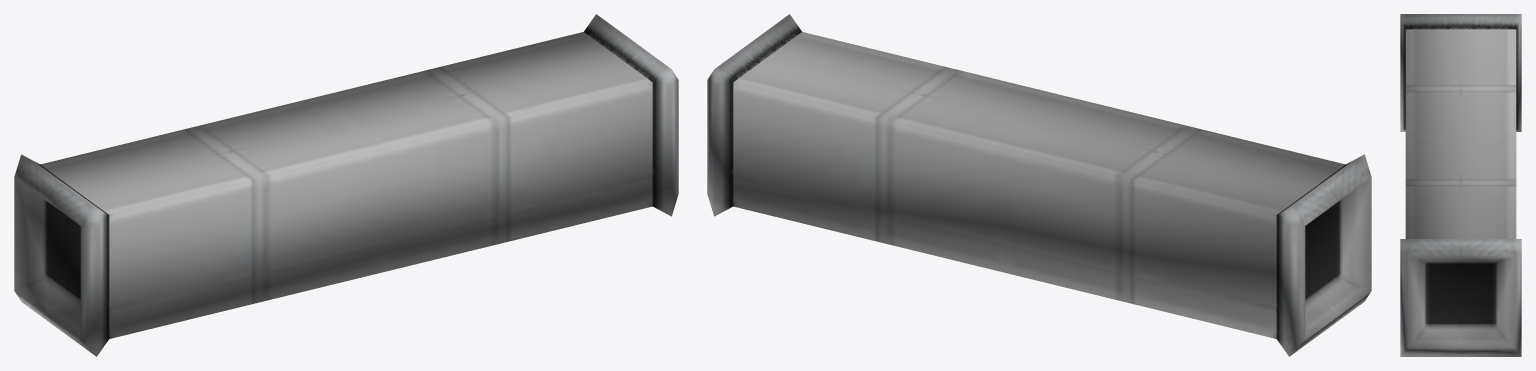
Rendered from Part - Tube 05-Dn2MyrhJ.glb.
The picture shows the model from 3 angles, left to right: view 1: azimuth 30°, elevation 25°; view 2: azimuth 150°, elevation 25°; view 3: azimuth 270°, elevation 25°; orthographic projection. The views are drawn at different scales.
Parts seen in each view (by area): view 1: Tube_05; view 2: Tube_05; view 3: Tube_05.
Part boxes in pixels (x1,y1,x2,y2): Tube_05: (14, 14, 678, 356); Tube_05: (707, 14, 1371, 356); Tube_05: (1400, 14, 1521, 356).
Bounding box in the file's own units: 2 × 0.4712 × 0.4375.
Materials: 1 (1 with a texture image).
